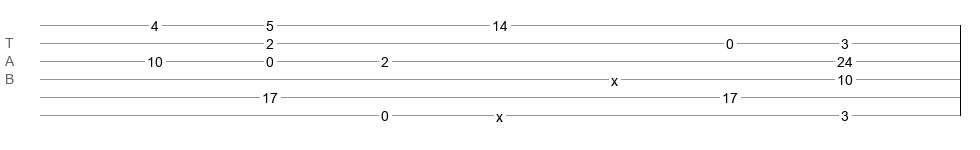0: (266, 54, 274, 64), (381, 108, 389, 118), (726, 36, 734, 46)
10: (147, 54, 163, 64), (837, 72, 853, 82)
14: (492, 18, 508, 28)
17: (262, 90, 278, 100), (722, 90, 738, 100)
2: (266, 36, 274, 46), (381, 54, 389, 64)
24: (837, 54, 853, 64)
3: (841, 108, 849, 118), (841, 36, 849, 46)
4: (151, 18, 159, 28)
5: (266, 18, 274, 28)
x: (496, 109, 503, 117), (611, 73, 618, 81)
